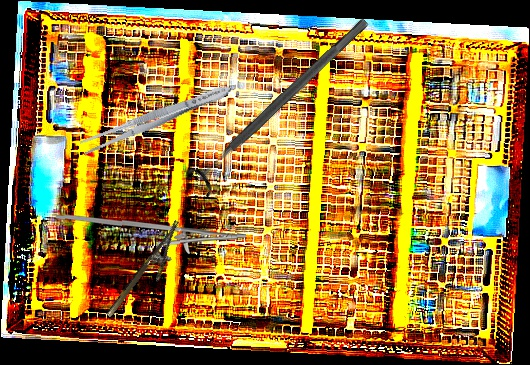Dressing Forceps: (77, 79, 235, 158)
Fixation Ring: (182, 7, 379, 200)
Needle Holder: (105, 219, 194, 328), (55, 210, 247, 257)
